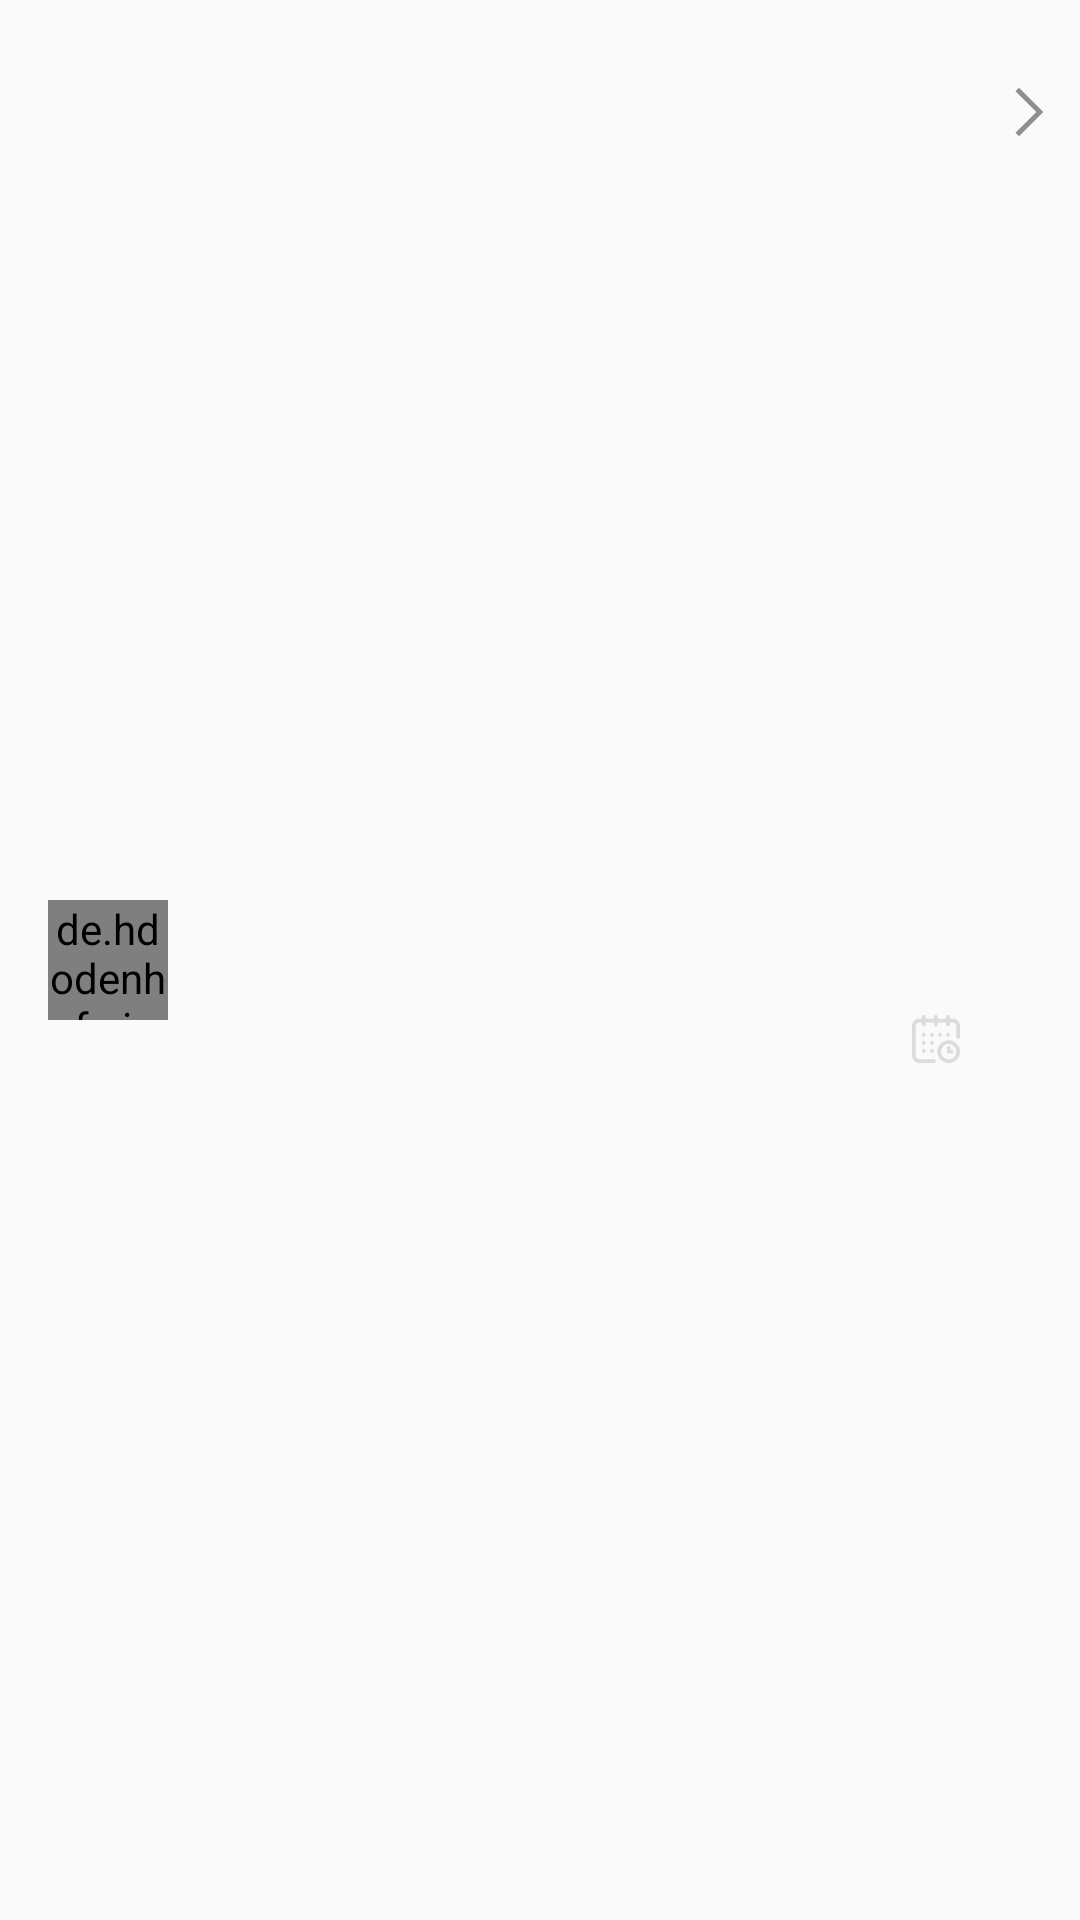

Icon click points for this 1080 × 1920 phone screenshot, format (x=x, y=y):
next: (x=1029, y=112)
